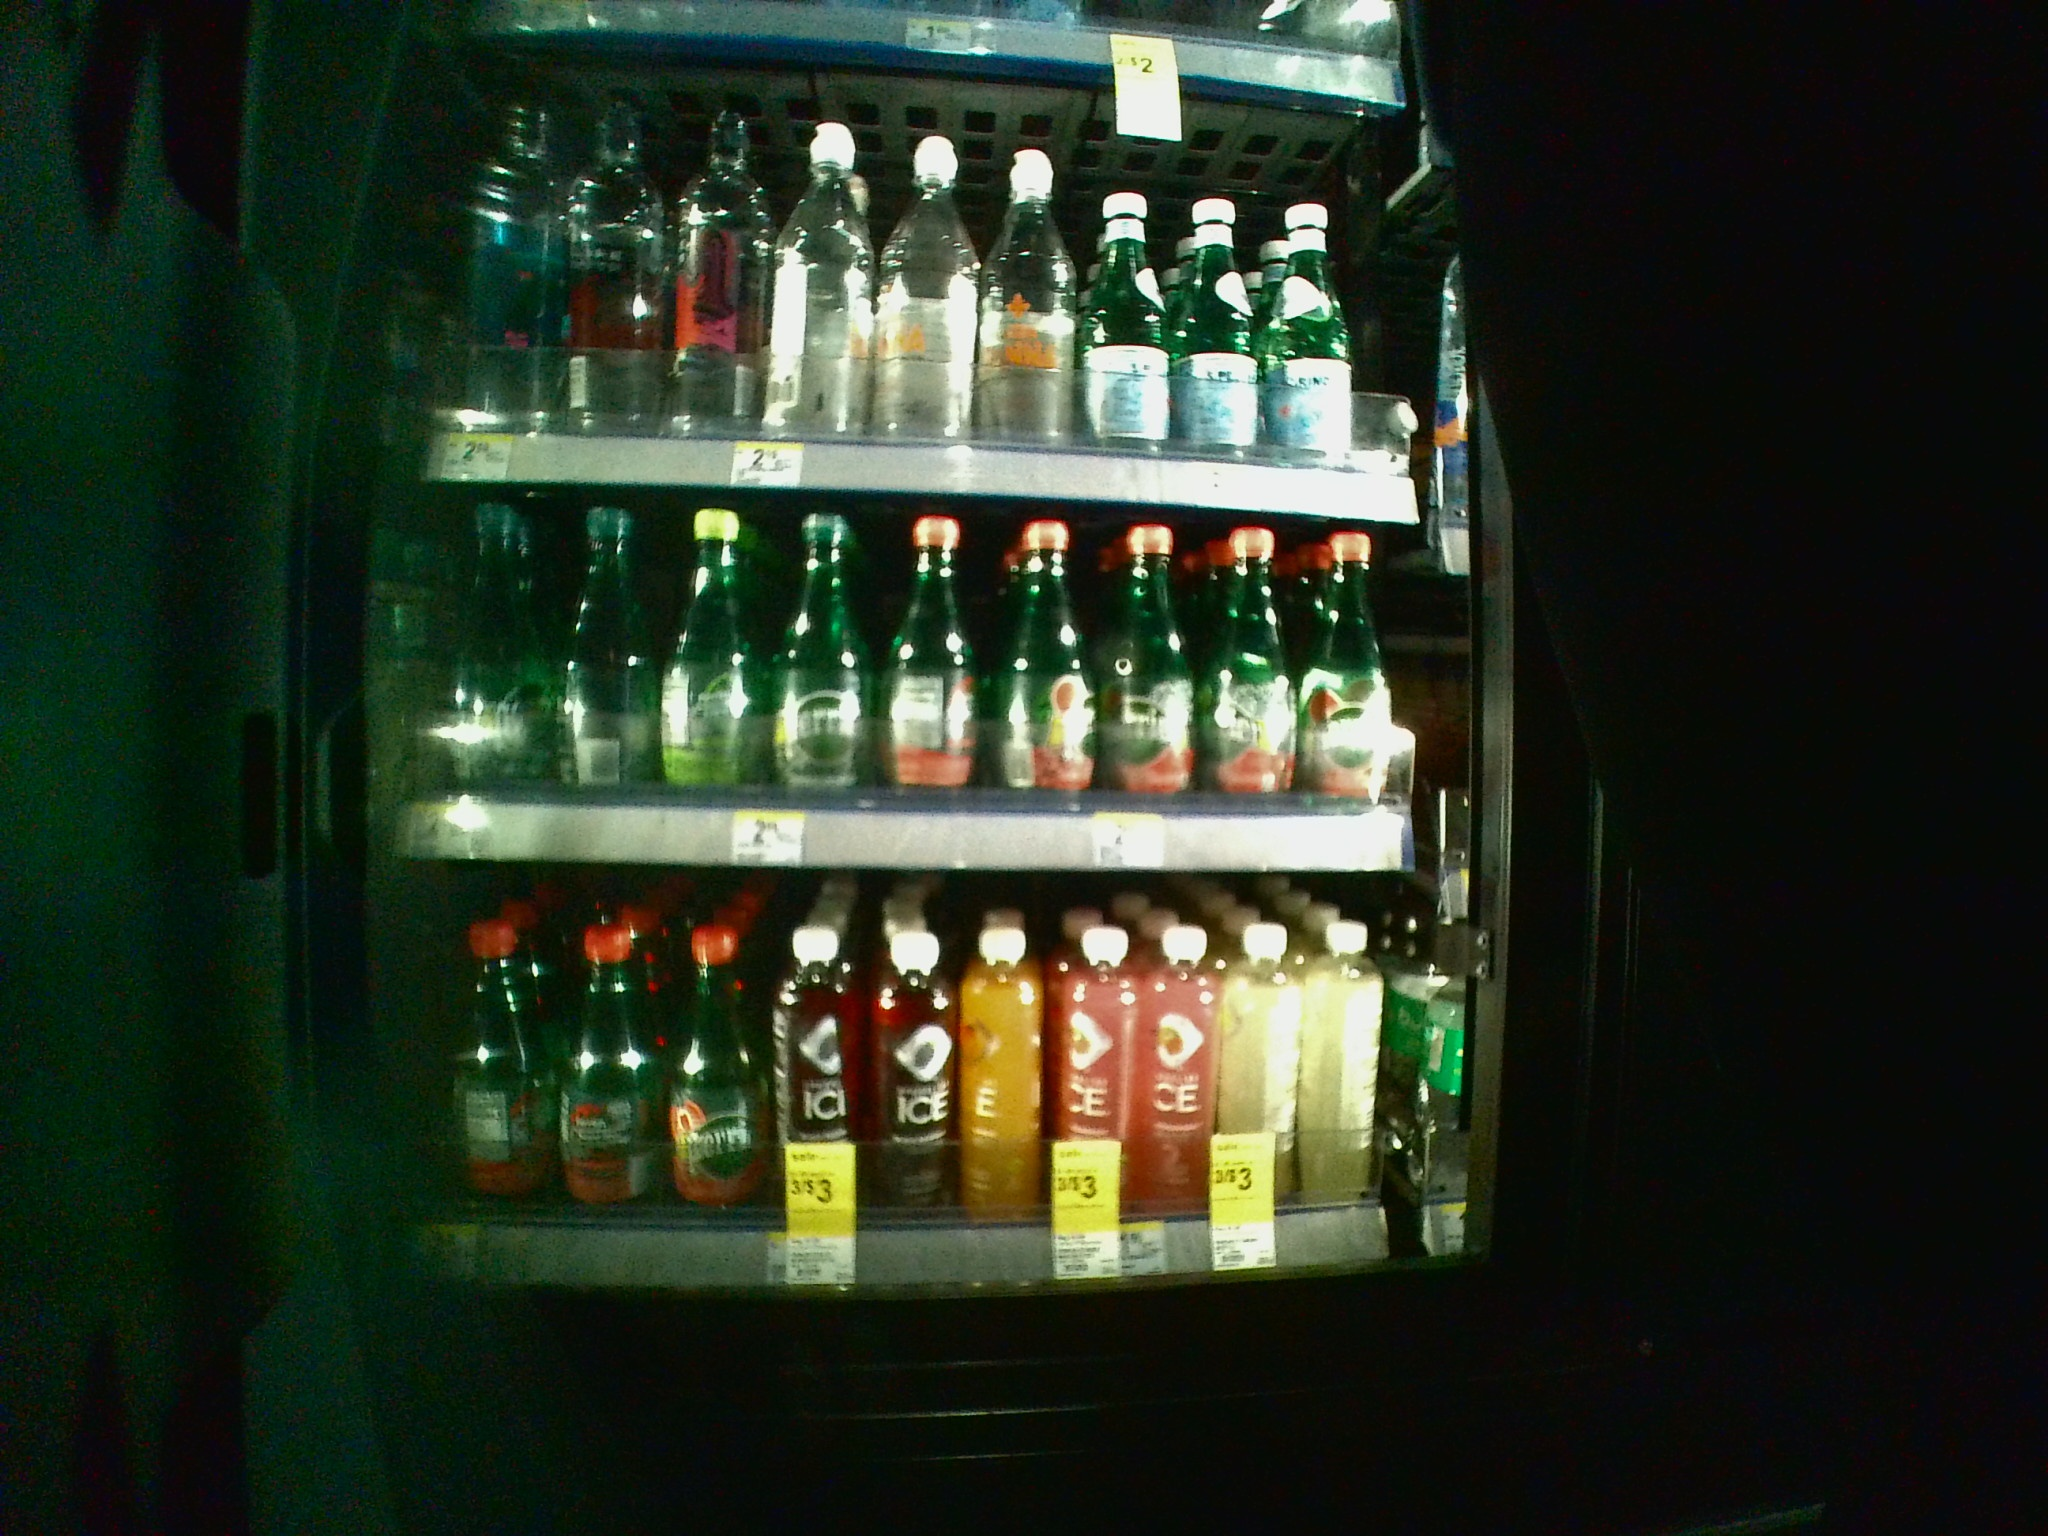shelf: (347, 868, 1506, 1297), (347, 486, 1513, 868)
